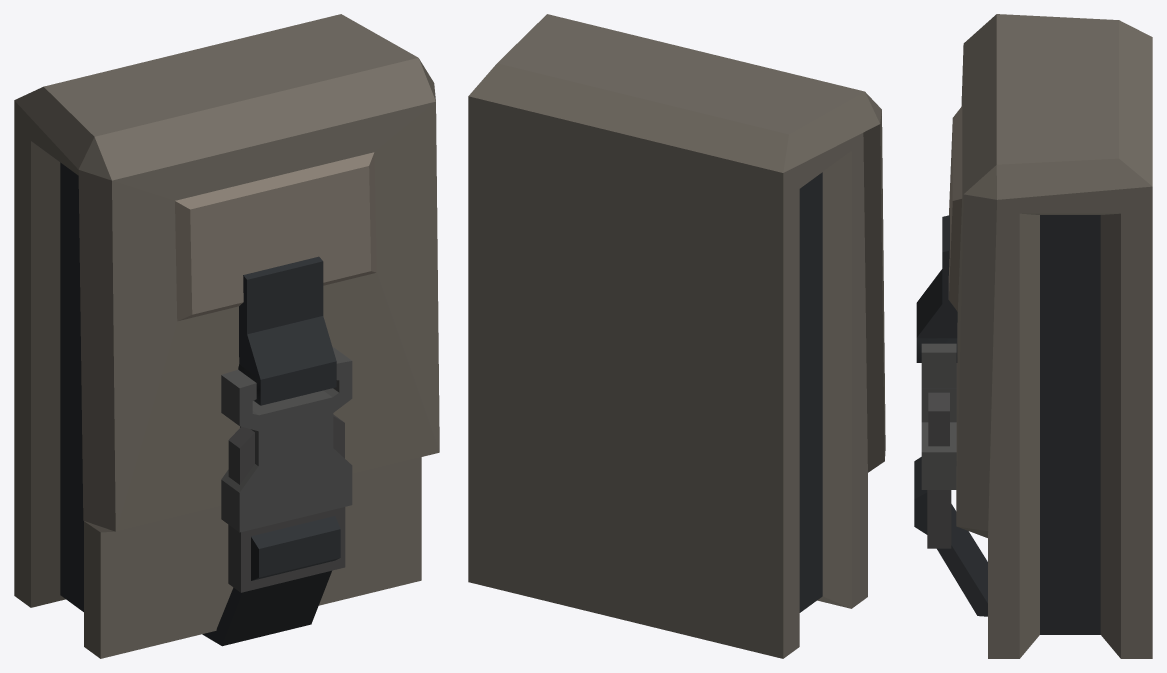
File: SM_Chr_Attach_Pouch_01.glb
3 views of the same model, side by side, from view 1: azimuth 30°, elevation 25°; view 2: azimuth 150°, elevation 25°; view 3: azimuth 270°, elevation 25° (orthographic). The views are drawn at different scales.
Visible parts, largest first — view 1: SM_Chr_Attach_Pouch_01; view 2: SM_Chr_Attach_Pouch_01; view 3: SM_Chr_Attach_Pouch_01.
Boxes of the visible parts, bbox=[...] form: SM_Chr_Attach_Pouch_01: bbox=[14, 14, 439, 658]; SM_Chr_Attach_Pouch_01: bbox=[468, 14, 885, 658]; SM_Chr_Attach_Pouch_01: bbox=[914, 14, 1152, 658].
Size of the model in its own units: 0.1182 by 0.1696 by 0.072.
Materials: 1 (1 with a texture image).
